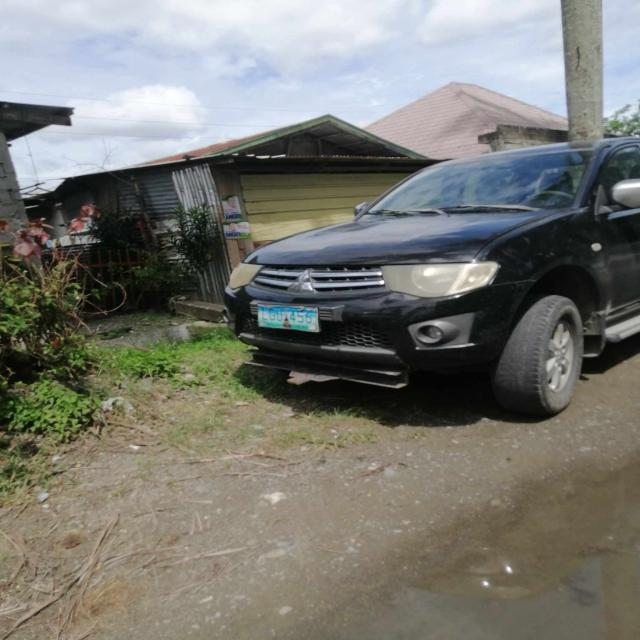license-plate: (256, 304, 322, 333)
